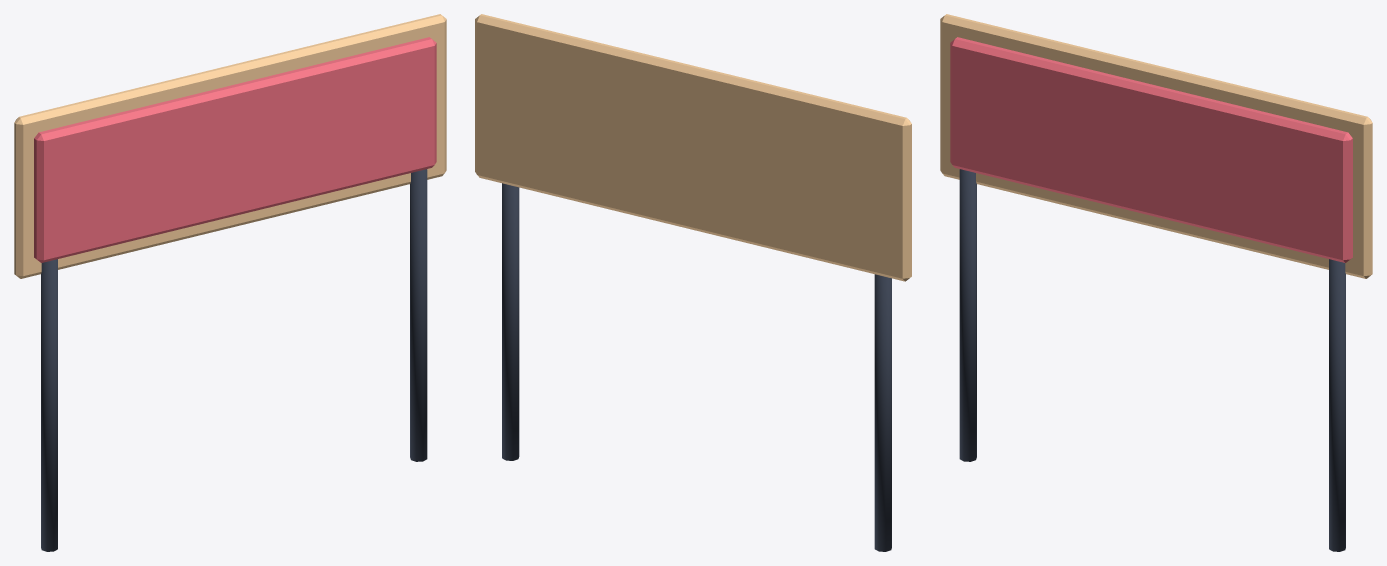
File: cafe_sign.glb
3 views of the same model, side by side, from view 1: azimuth 30°, elevation 25°; view 2: azimuth 150°, elevation 25°; view 3: azimuth 330°, elevation 25° (orthographic).
Parts seen in each view (by area): view 1: cafe_sign, cafe_sign_frame, cafe_sign_post1, cafe_sign_post0; view 2: cafe_sign_frame, cafe_sign_post0, cafe_sign_post1; view 3: cafe_sign, cafe_sign_frame, cafe_sign_post0, cafe_sign_post1.
Part boxes in pixels (x1,y1,x2,y2): cafe_sign: [34, 37, 436, 262]; cafe_sign_frame: [14, 14, 446, 278]; cafe_sign_post1: [410, 169, 427, 461]; cafe_sign_post0: [41, 259, 57, 551]; cafe_sign_frame: [475, 14, 911, 281]; cafe_sign_post0: [874, 274, 891, 551]; cafe_sign_post1: [502, 183, 519, 460]; cafe_sign: [950, 37, 1352, 262]; cafe_sign_frame: [940, 14, 1372, 278]; cafe_sign_post0: [959, 169, 976, 461]; cafe_sign_post1: [1329, 259, 1345, 551].
Bounding box in the file's own units: 2.8 × 2.7 × 0.14.
